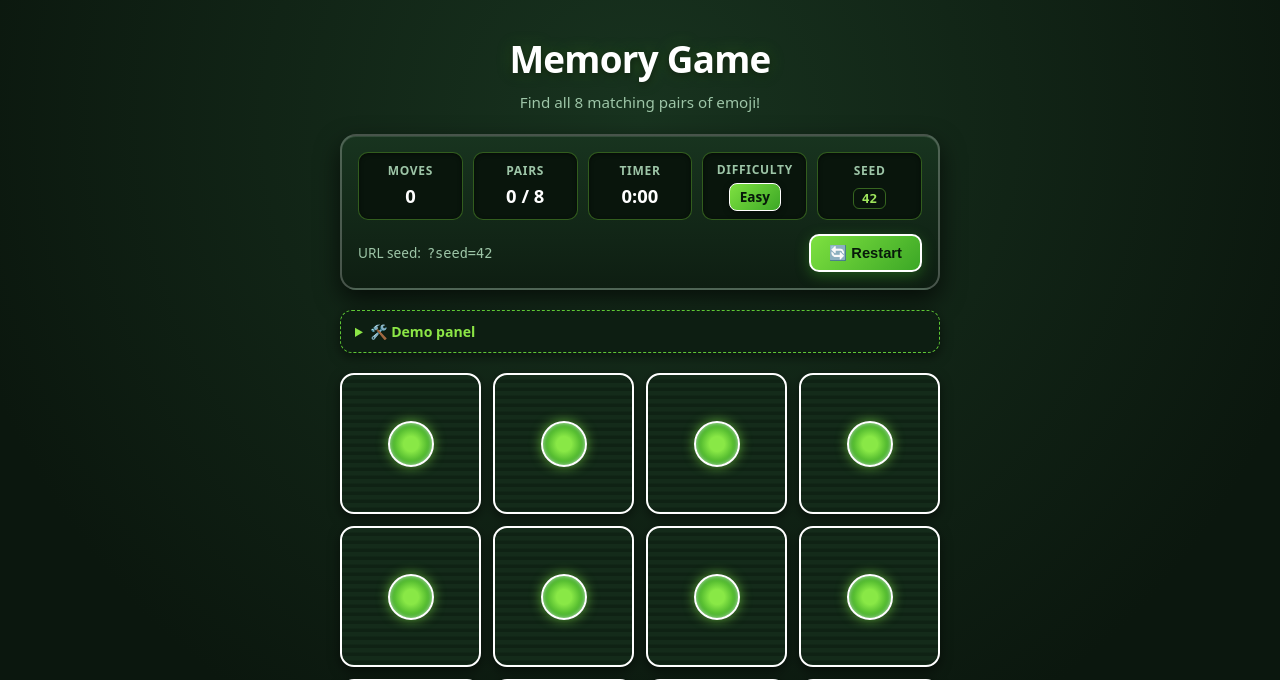
Test case: Memory Game UI (App.jsx) › handles a mismatch: flips cards face-up, waits, then flips back
Click the button named "Card 1: hidden": (410, 444) [340,374,481,514]
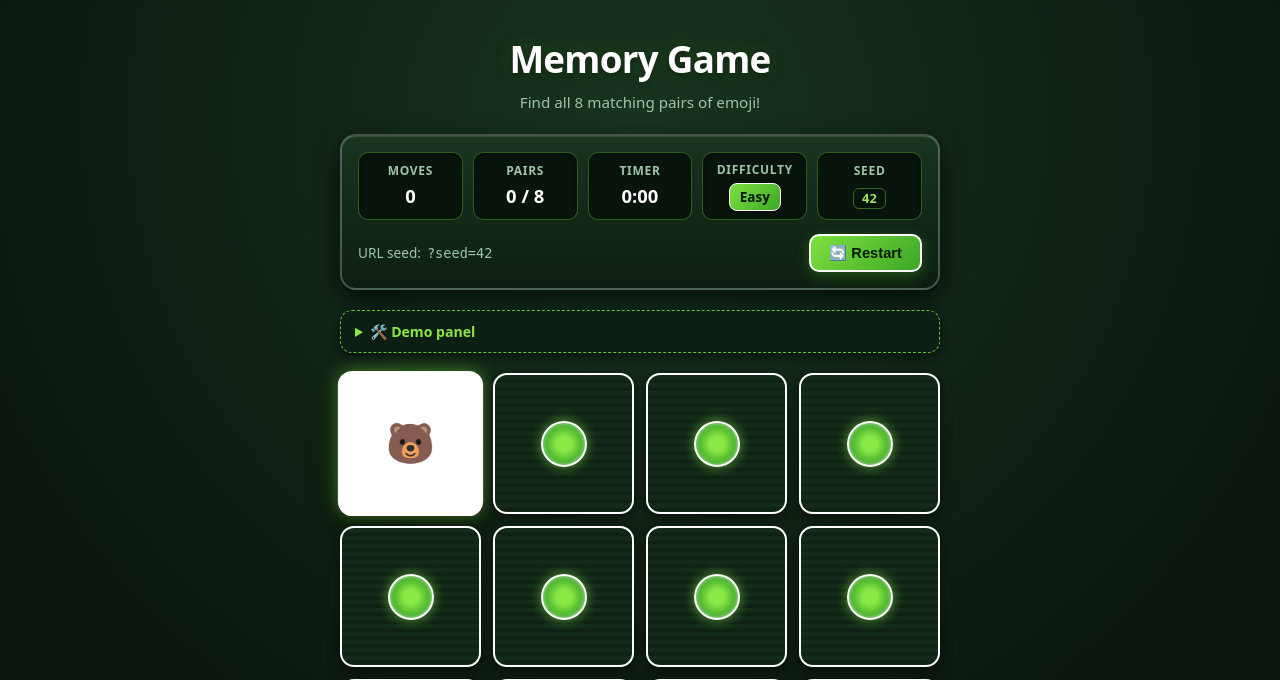
Click the button named "Card 2: hidden": (564, 444) [493,374,634,514]
Wait 1300 ms
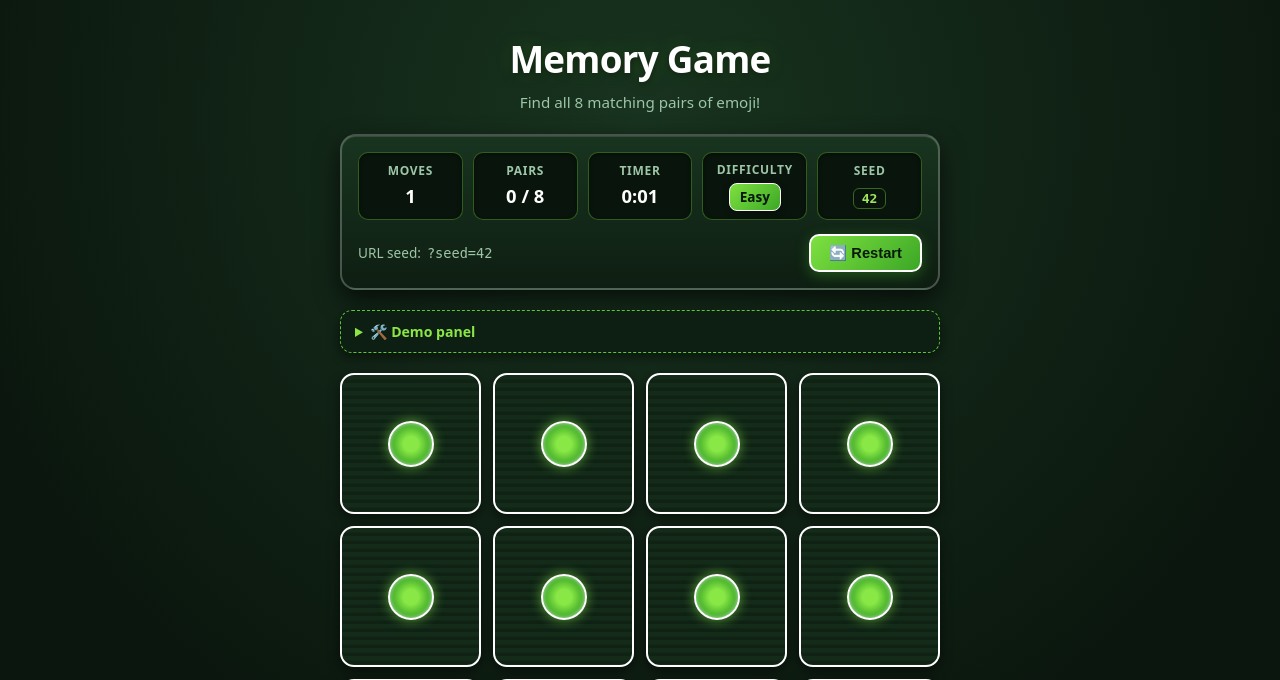
Expected: the text "Moves" is shown, [388,162,433,180]
Result: the text "1" is shown at [405,182,416,210]
